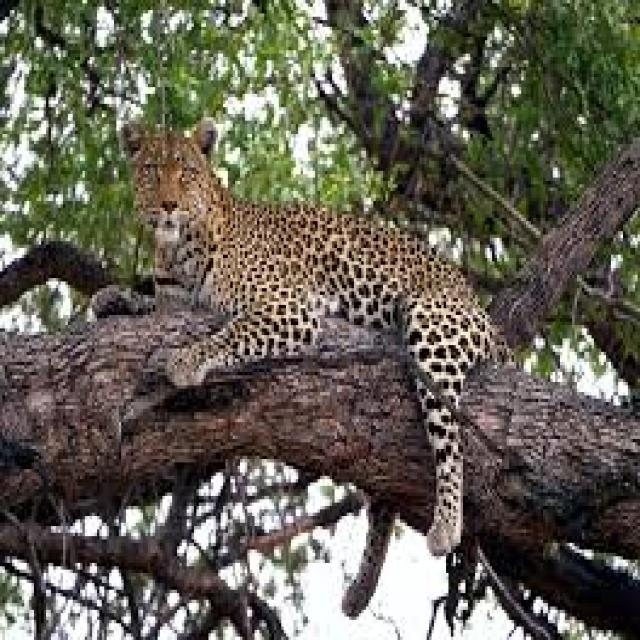Jaguar: (100, 107, 504, 623)
